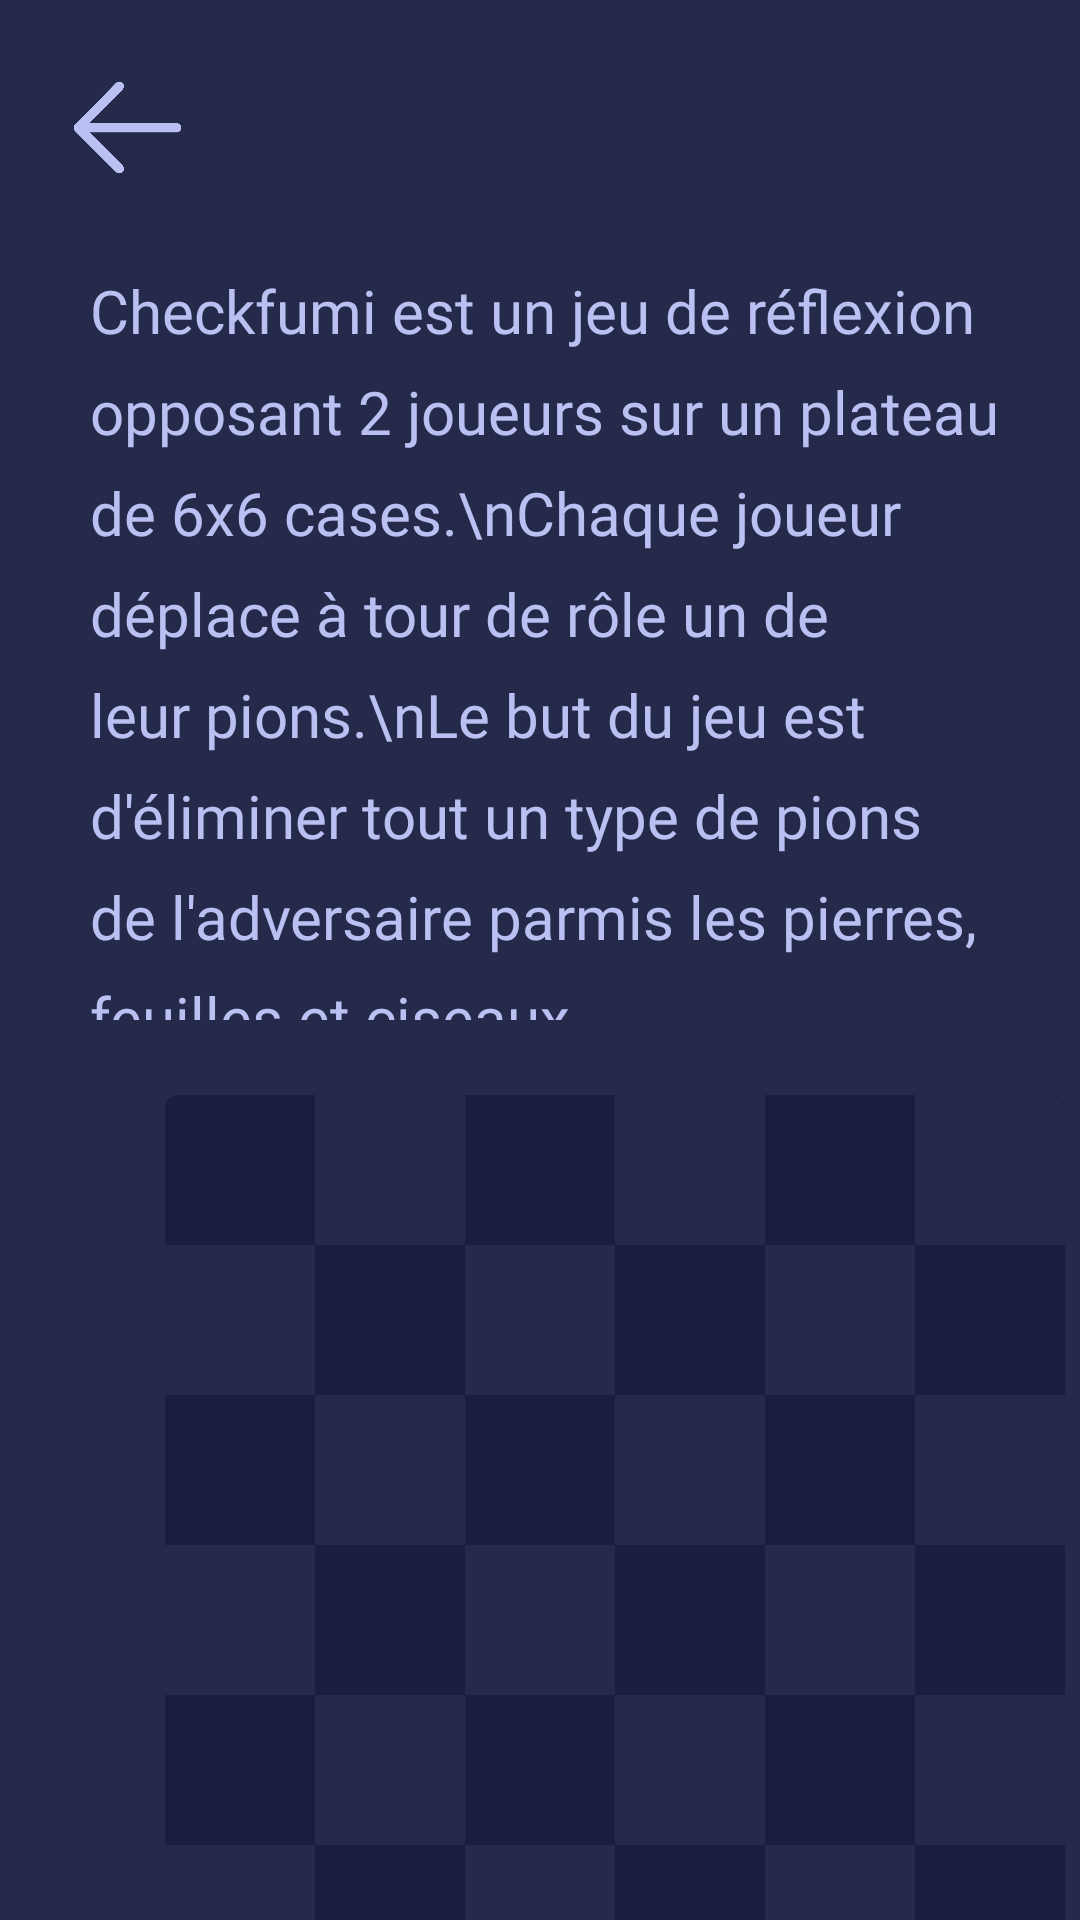

Icons on this 1080w x 1920h Android screen, each with the point to tap as [x,y]:
fleches: [127,127]
